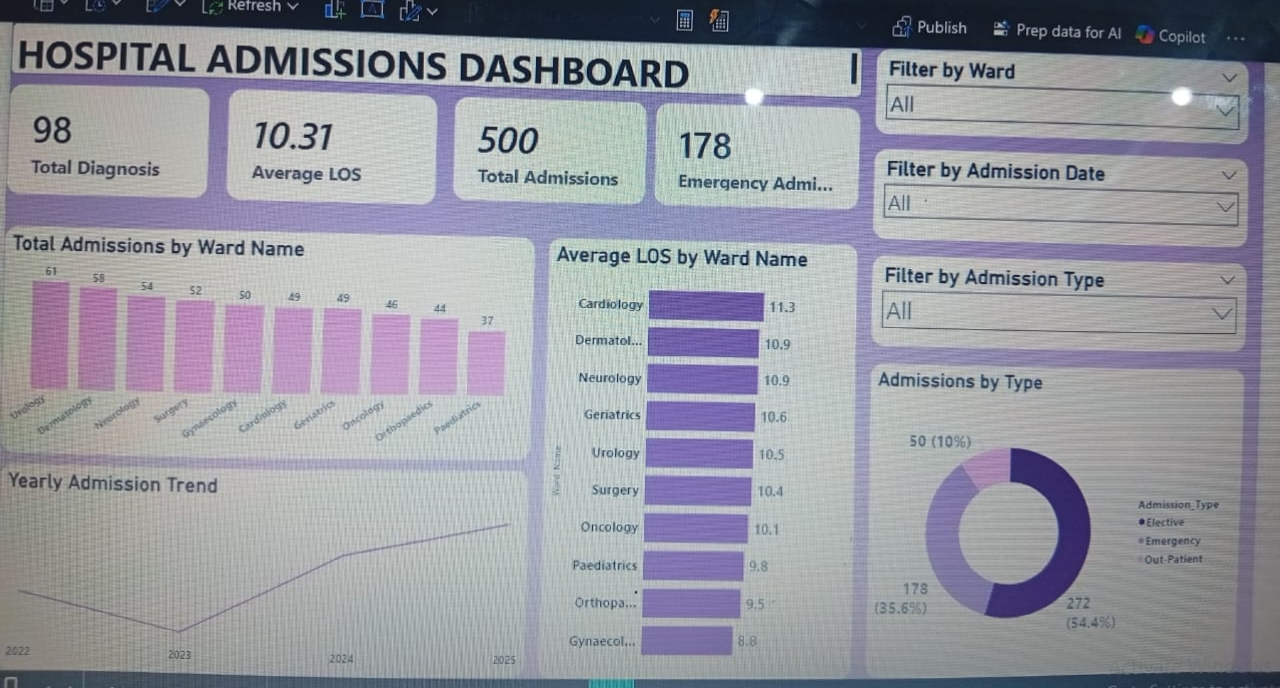

What the dashboard file says about the page in this screenshot:
{"tool":"powerbi","page":{"name":"Admission dashboard","canvas":[2000,1000],"ordinal":0},"visuals":[{"type":"cardVisual","fields":{"Data":["Admissions.Total Admissions"]},"box":[682.7,94.4,305.2,164.7],"z":0},{"type":"cardVisual","fields":{"Data":["Admissions.Average LOS"]},"box":[339.4,94.4,319.3,172.7],"z":1000},{"type":"clusteredColumnChart","title":"Total Admissions by Ward Name","fields":{"Category":["Wards.Ward_Name"],"Y":["Admissions.Total Admissions"]},"box":[0,314,815.1,350.5],"z":2000},{"type":"lineChart","title":"Yearly Admission Trend","fields":{"Y":["Admissions.Count of admission_id"],"Category":["Admissions.Admission_Date.Variation.Date Hierarchy.Year"]},"box":[0,679.6,815.1,320.4],"z":3000},{"type":"clusteredBarChart","title":"Average LOS by Ward Name","fields":{"Category":["Wards.Ward_Name"],"Y":["Admissions.Average LOS"]},"box":[835.3,313.3,494,686.7],"z":4000},{"type":"donutChart","title":"Admissions by Type","fields":{"Category":["Admissions.Admission_Type"],"Y":["Admissions.Count of admission_id"]},"box":[1350.5,501.1,621.5,498.9],"z":5000},{"type":"cardVisual","fields":{"Data":["Admissions.Total Diagnosis"]},"box":[0,94.6,311.8,172],"z":6000},{"type":"slicer","fields":{"Values":["Admissions.Admission_Date"]},"box":[1350.5,159.1,621.5,146.2],"z":7000},{"type":"slicer","fields":{"Values":["Wards.Ward_Name"]},"box":[1350.5,0,621.5,137.6],"z":8000},{"type":"slicer","fields":{"Values":["Admissions.Admission_Type"]},"box":[1350.5,329,621.5,146.2],"z":9000},{"type":"textbox","box":[0,0,1329.3,80.3],"z":10000},{"type":"cardVisual","fields":{"Data":["Admissions.Emergency Admission"]},"box":[1000,94.4,329.3,164.7],"z":11000}]}

Visuals, with their boxes on the page's 2000x1000 design canvas (x1, y1, x2, y2). These are canvas units, not pixel positions in the 1280x688 screenshot, which may show the page scaled, cropped or inside an application window:
cardVisual - Admissions.Total Admissions: box=[683, 94, 988, 259]
cardVisual - Admissions.Average LOS: box=[339, 94, 659, 267]
"Total Admissions by Ward Name" clusteredColumnChart: box=[0, 314, 815, 664]
"Yearly Admission Trend" lineChart: box=[0, 680, 815, 1000]
"Average LOS by Ward Name" clusteredBarChart: box=[835, 313, 1329, 1000]
"Admissions by Type" donutChart: box=[1350, 501, 1972, 1000]
cardVisual - Admissions.Total Diagnosis: box=[0, 95, 312, 267]
slicer - Admissions.Admission_Date: box=[1350, 159, 1972, 305]
slicer - Wards.Ward_Name: box=[1350, 0, 1972, 138]
slicer - Admissions.Admission_Type: box=[1350, 329, 1972, 475]
textbox: box=[0, 0, 1329, 80]
cardVisual - Admissions.Emergency Admission: box=[1000, 94, 1329, 259]
